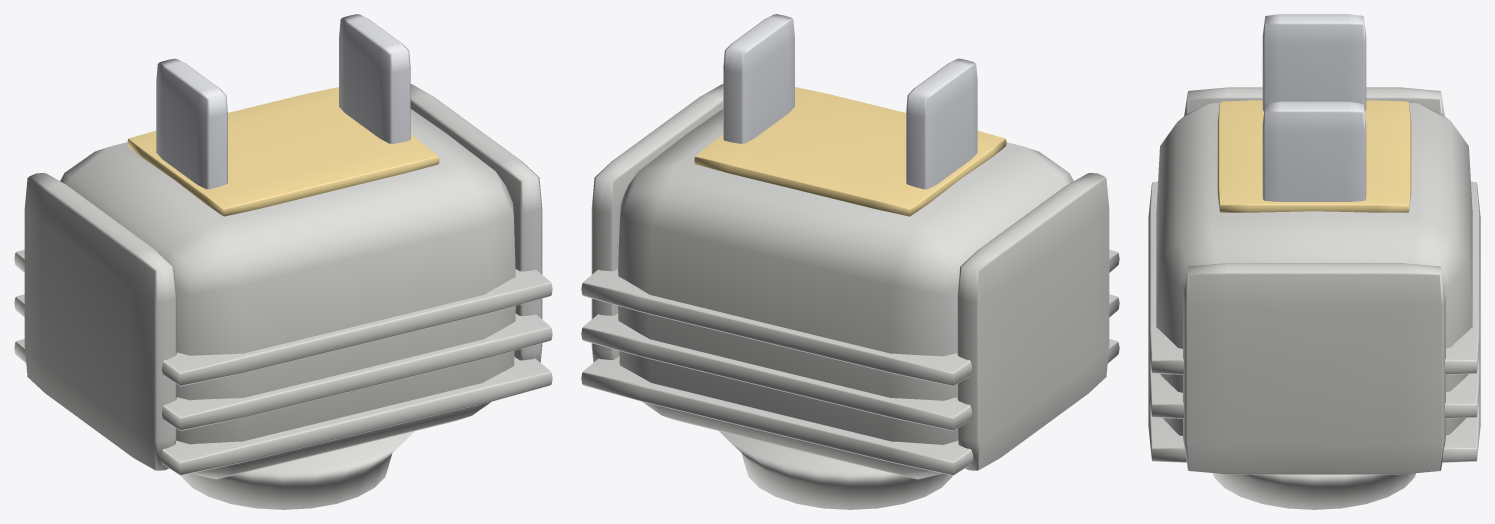
Rendered from BigBadVacuumPlug.glb.
The picture shows the model from 3 angles, left to right: view 1: azimuth 30°, elevation 25°; view 2: azimuth 150°, elevation 25°; view 3: azimuth 270°, elevation 25°; orthographic projection.
Visible parts, largest first — view 1: Plug, Glow, Prong; view 2: Plug, Glow, Prong; view 3: Plug, Prong, Glow.
Boxes of the visible parts, left/top/right/bottom form: Plug: left=14, top=84, right=552, bottom=509; Glow: left=127, top=87, right=439, bottom=216; Prong: left=156, top=14, right=410, bottom=189; Plug: left=581, top=84, right=1119, bottom=509; Glow: left=694, top=87, right=1006, bottom=216; Prong: left=723, top=14, right=977, bottom=189; Plug: left=1148, top=87, right=1480, bottom=509; Prong: left=1262, top=14, right=1366, bottom=201; Glow: left=1217, top=100, right=1411, bottom=212.
Bounding box in the file's own units: 6.5 × 6.45 × 4.8.
